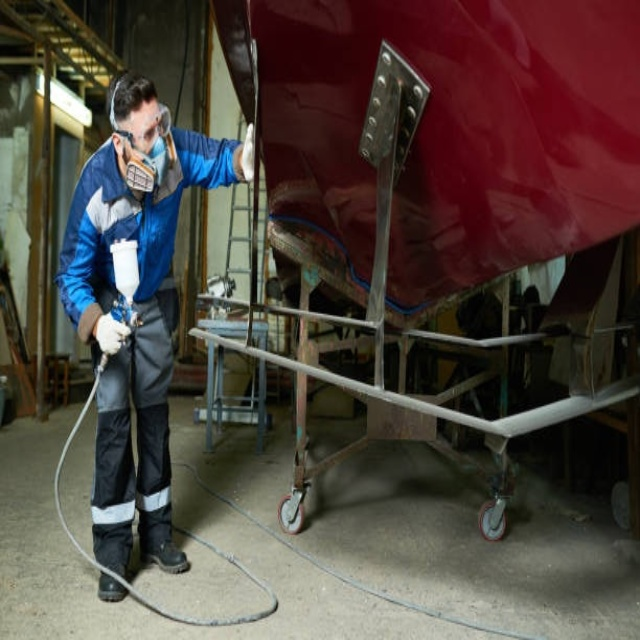Gafas: (118, 109, 170, 145)
Guantes: (95, 312, 131, 356), (239, 123, 255, 182)
Mascara: (132, 128, 171, 189)
